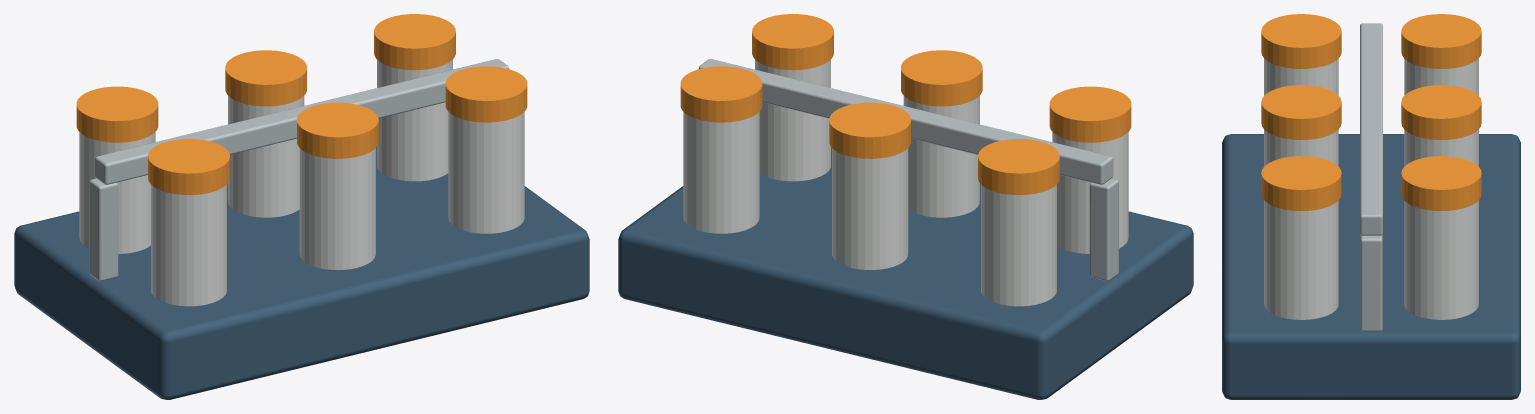
Rendered from container-inspection-and-customs-yard-container-inspec-bab6302f__29288.glb.
The picture shows the model from 3 angles, left to right: view 1: azimuth 30°, elevation 25°; view 2: azimuth 150°, elevation 25°; view 3: azimuth 270°, elevation 25°; orthographic projection. The views are drawn at different scales.
Parts seen in each view (by area): view 1: container-inspection-and-customs-yard-sample-bottle-case; view 2: container-inspection-and-customs-yard-sample-bottle-case; view 3: container-inspection-and-customs-yard-sample-bottle-case.
Part boxes in pixels (x1,y1,x2,y2): container-inspection-and-customs-yard-sample-bottle-case: (14, 14, 589, 399); container-inspection-and-customs-yard-sample-bottle-case: (618, 14, 1193, 399); container-inspection-and-customs-yard-sample-bottle-case: (1222, 14, 1520, 399).
Bounding box in the file's own units: 0.52 × 0.235 × 0.32.
